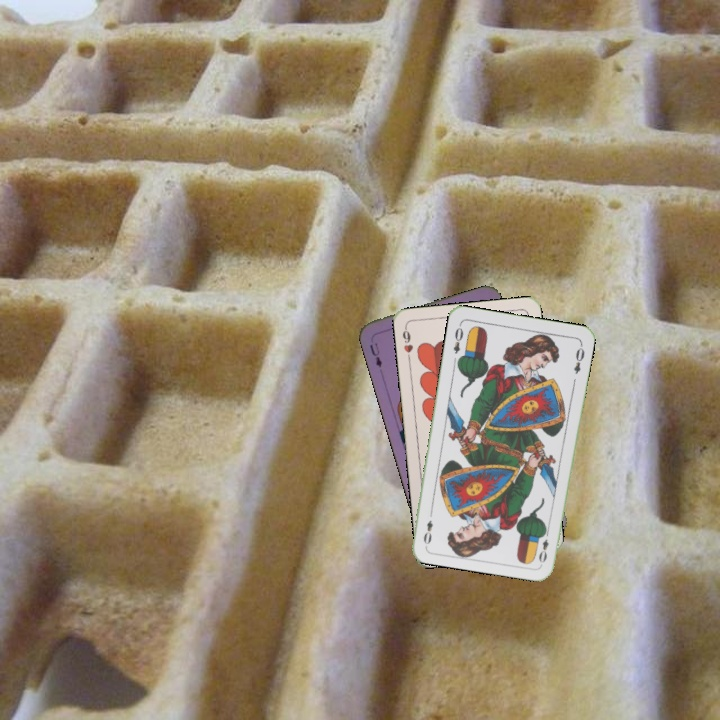EO: (535, 526, 552, 565), (449, 320, 466, 356)
EU: (366, 339, 385, 370)
H9: (398, 323, 415, 364)
